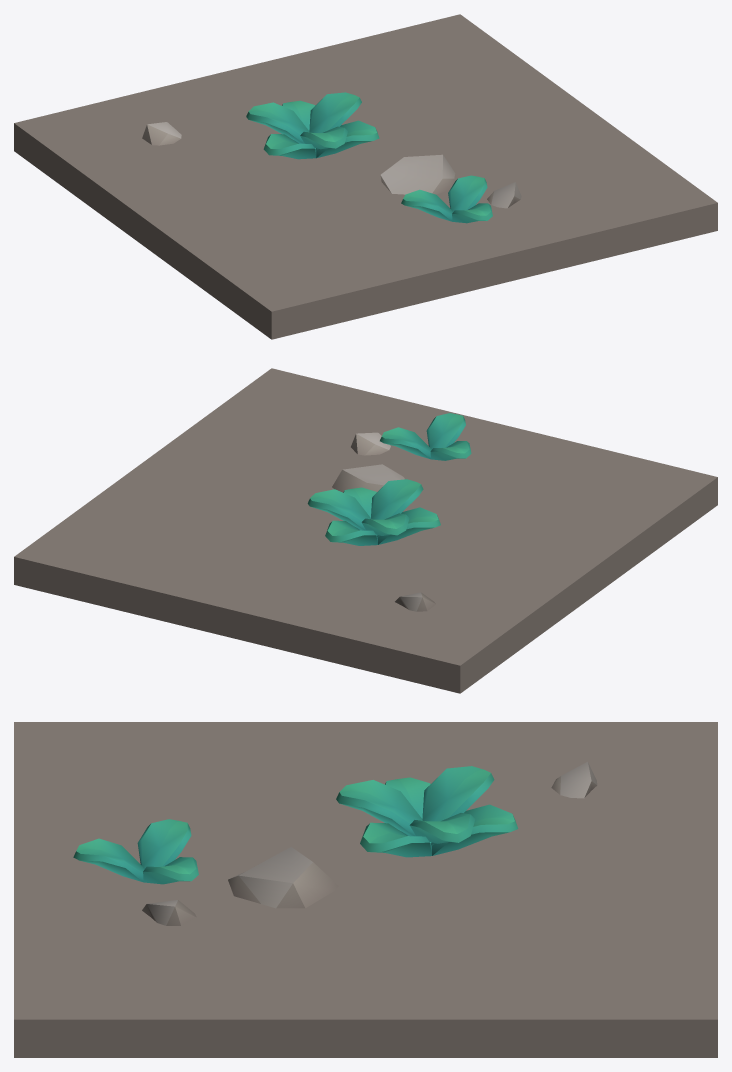
The model's file is floor_dirt_small_weeds.gltf.
The picture shows the model from 3 angles, top to bottom: view 1: azimuth 30°, elevation 25°; view 2: azimuth 150°, elevation 25°; view 3: azimuth 270°, elevation 25°; orthographic projection. The views are drawn at different scales.
Parts seen in each view (by area): view 1: floor_dirt_small_weeds; view 2: floor_dirt_small_weeds; view 3: floor_dirt_small_weeds.
Boxes of the visible parts, x1,y1,x2,y2 form: floor_dirt_small_weeds: (14, 14, 717, 339); floor_dirt_small_weeds: (14, 368, 717, 693); floor_dirt_small_weeds: (14, 722, 717, 1057).
Bounding box in the file's own units: 2 × 0.2955 × 2.
1 material, 1 textured.
